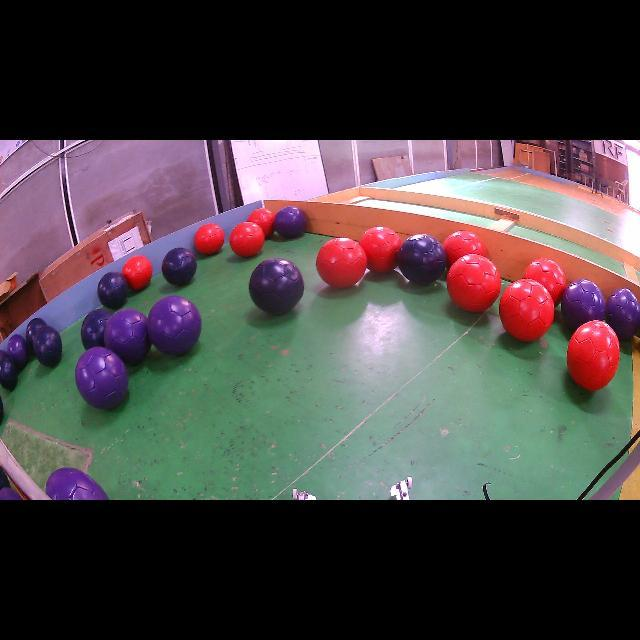B: (249, 259, 304, 315), (398, 234, 446, 285), (161, 248, 198, 286), (81, 309, 112, 350), (98, 271, 129, 309), (34, 325, 62, 366), (26, 318, 46, 351), (0, 355, 18, 390)
P: (75, 346, 129, 409), (148, 295, 201, 355), (104, 309, 151, 365), (561, 279, 605, 330), (46, 468, 109, 500), (605, 289, 640, 340), (274, 206, 306, 238), (8, 335, 29, 370)
R: (566, 320, 620, 390), (499, 279, 555, 341), (446, 254, 501, 312), (316, 238, 368, 288), (524, 258, 566, 306), (359, 226, 402, 272), (442, 230, 486, 268), (229, 221, 265, 257), (122, 255, 152, 290), (194, 224, 225, 254), (248, 208, 275, 237)
